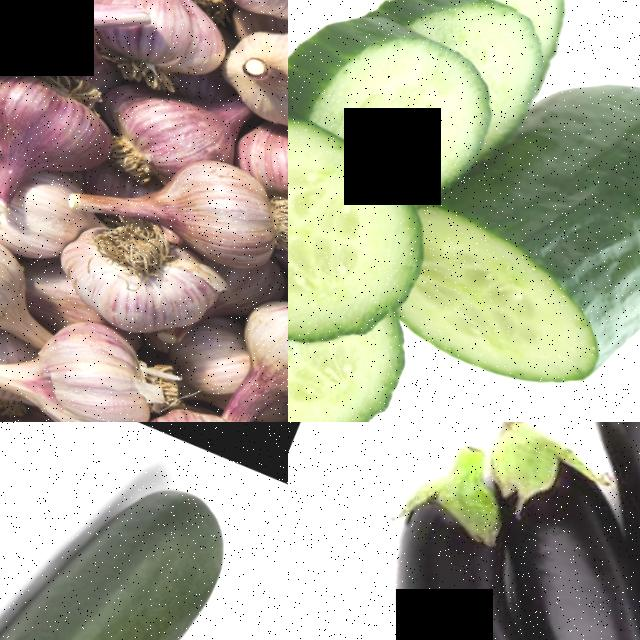cucumber: (435, 40, 640, 412), (0, 422, 275, 640), (288, 72, 460, 375), (288, 265, 414, 422)
eggplant: (288, 457, 640, 640), (558, 422, 640, 640)
garlic: (39, 202, 232, 363), (134, 140, 288, 290), (0, 298, 176, 422), (0, 51, 126, 205), (88, 0, 238, 112), (202, 6, 288, 160), (0, 0, 110, 109), (0, 195, 37, 351)
